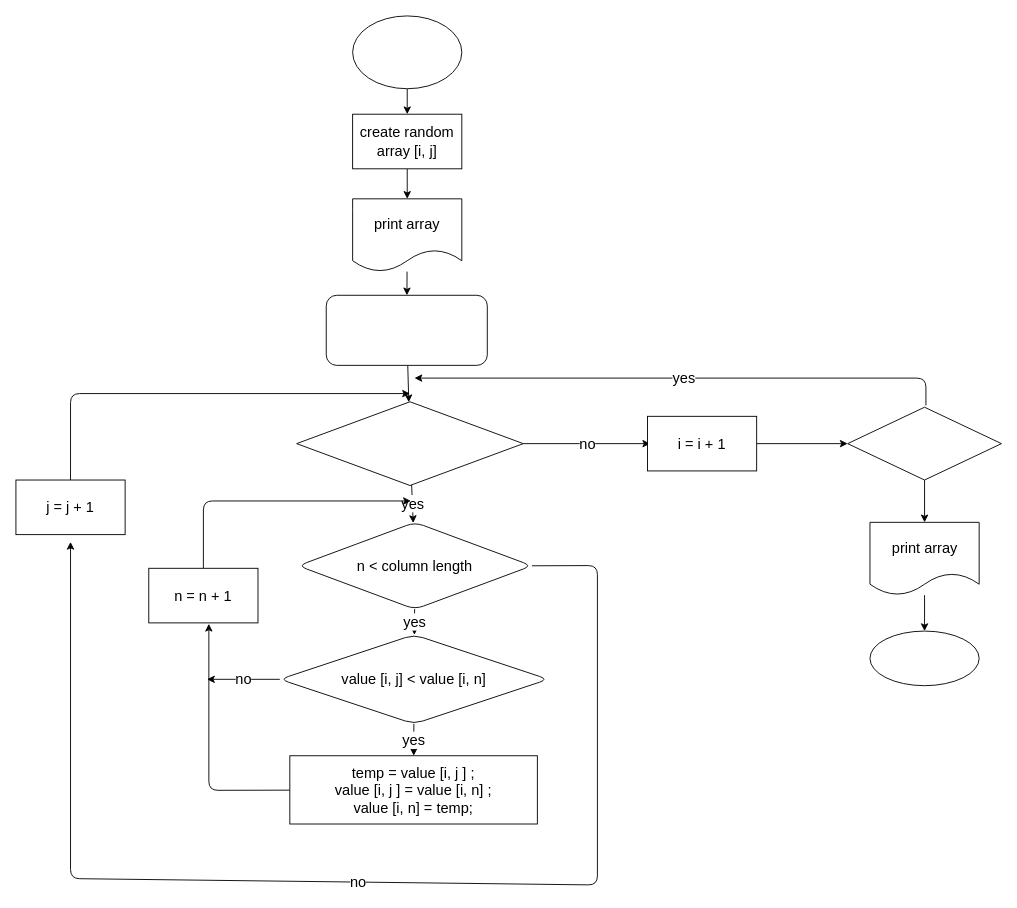
The diagram is 1017 pixels wide and 908 high, and some of its shapes have lost their labels. The centre of each missing label's shape, as x and y in pixels:
"end" goes at pixel 924 658.
"i < row length" goes at pixel 924 443.
"i = 0 j = 0 n = j + 1 temp" goes at pixel 406 329.
"j < column length -1" goes at pixel 409 443.
"start" goes at pixel 407 52.
